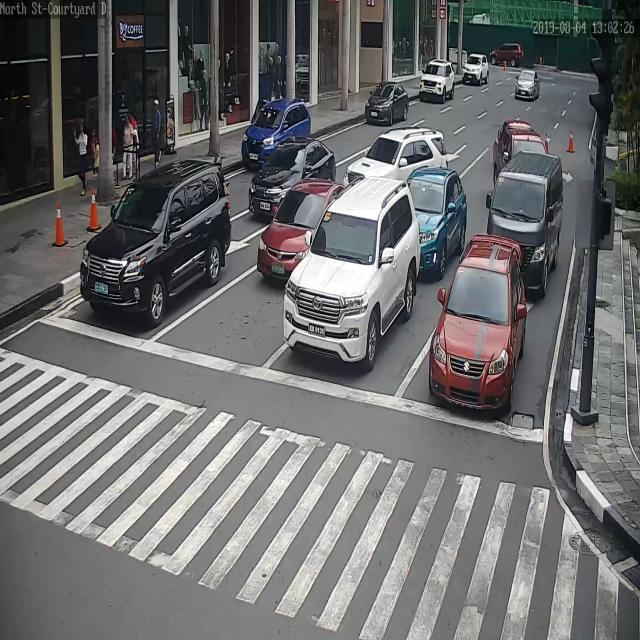car: (282, 176, 423, 371), (78, 156, 232, 326), (426, 238, 529, 411), (258, 178, 349, 284), (251, 137, 341, 221), (406, 168, 470, 284), (348, 125, 451, 186), (241, 98, 313, 169), (494, 135, 549, 178), (363, 79, 410, 126), (418, 60, 453, 105), (494, 117, 537, 141), (488, 43, 525, 68), (462, 53, 490, 84), (514, 70, 539, 102)
van: (487, 152, 565, 296)
